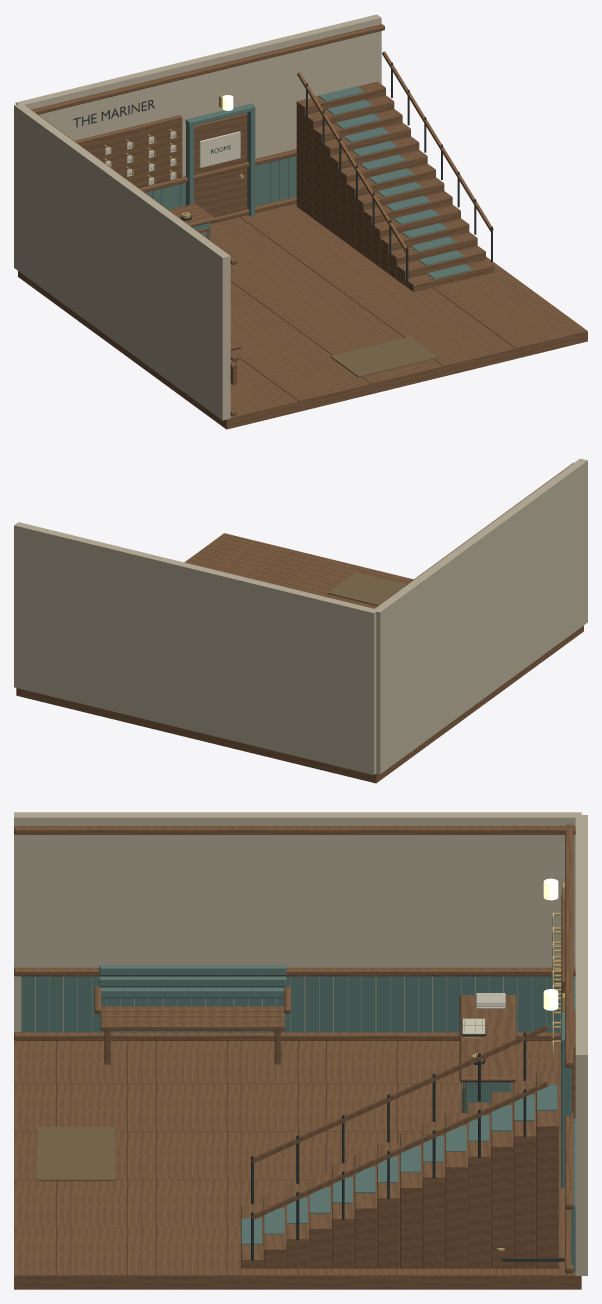
File: interior-mariner.glb
3 renders of one model, top to bottom at view 1: azimuth 30°, elevation 25°; view 2: azimuth 150°, elevation 25°; view 3: azimuth 270°, elevation 25°, orthographic. The views are drawn at different scales.
Parts seen in each view (by area): view 1: foundation, west plaster wall, rear plaster wall, rear moulding, reception desk, rear dado board, entrance coir mat, rear numbered key tag, service bell base; view 2: rear plaster wall, west plaster wall, foundation, entrance coir mat; view 3: foundation, west plaster wall, west dado board, reception desk, west moulding, rear plaster wall, entrance coir mat, rear moulding, service bell base, rear dado board, rear key hook, rear opal sconce.
Part boxes in pixels (left/top/right/bottom): foundation: left=18, top=51, right=587, bottom=429; west plaster wall: left=14, top=103, right=230, bottom=420; rear plaster wall: left=15, top=14, right=381, bottom=176; rear moulding: left=31, top=24, right=384, bottom=223; reception desk: left=192, top=86, right=472, bottom=279; rear dado board: left=145, top=103, right=296, bottom=216; entrance coir mat: left=330, top=336, right=438, bottom=377; rear numbered key tag: left=105, top=131, right=240, bottom=185; service bell base: left=180, top=62, right=492, bottom=282; rear plaster wall: left=14, top=522, right=377, bottom=774; west plaster wall: left=374, top=458, right=587, bottom=774; foundation: left=16, top=533, right=583, bottom=783; entrance coir mat: left=327, top=572, right=406, bottom=605; foundation: left=14, top=987, right=581, bottom=1289; west plaster wall: left=14, top=812, right=581, bottom=1032; west dado board: left=21, top=976, right=561, bottom=1032; reception desk: left=99, top=965, right=557, bottom=1244; west moulding: left=14, top=826, right=575, bottom=1040; rear plaster wall: left=575, top=815, right=587, bottom=1275; entrance coir mat: left=38, top=1127, right=114, bottom=1181; rear moulding: left=561, top=824, right=575, bottom=1273; service bell base: left=251, top=1019, right=564, bottom=1261; rear dado board: left=561, top=976, right=575, bottom=1271; rear key hook: left=552, top=882, right=564, bottom=1053; rear opal sconce: left=543, top=878, right=558, bottom=1010.
Bounding box in the file's own units: 10.11 × 4.57 × 10.11.
Materials: 9 (1 with a texture image).
